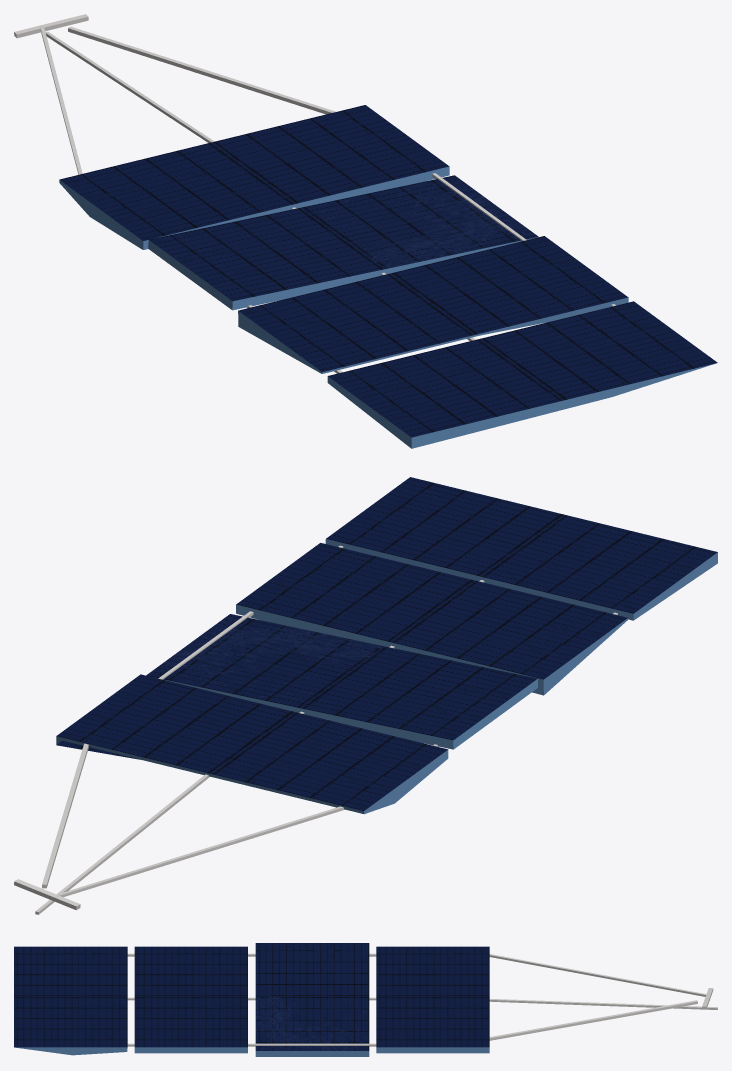
The model's file is Broken_Sattelite_Small_Trash.fbx.
3 renders of one model, top to bottom at view 1: azimuth 30°, elevation 25°; view 2: azimuth 150°, elevation 25°; view 3: azimuth 270°, elevation 25°, orthographic. The views are drawn at different scales.
Parts seen in each view (by area): view 1: pCube4, pCube12, pCube3, pCube8, pCube18, pCube16, pCube17; view 2: pCube3, pCube4, pCube12, pCube8, pCube17, pCube16, pCube18; view 3: pCube8, pCube12, pCube3, pCube4, pCube18, pCube17, pCube16, pCube15.
Boxes of the visible parts, <box> form: pCube4: <box>327,301,717,448</box>; pCube12: <box>59,105,449,249</box>; pCube3: <box>238,236,628,373</box>; pCube8: <box>148,175,538,310</box>; pCube18: <box>68,26,336,114</box>; pCube16: <box>45,31,214,142</box>; pCube17: <box>40,26,82,174</box>; pCube3: <box>236,543,627,695</box>; pCube4: <box>325,477,717,620</box>; pCube12: <box>56,674,448,814</box>; pCube8: <box>146,614,537,749</box>; pCube17: <box>55,806,344,897</box>; pCube16: <box>35,774,209,914</box>; pCube18: <box>42,743,88,888</box>; pCube8: <box>255,943,369,1056</box>; pCube12: <box>376,946,489,1053</box>; pCube3: <box>134,946,247,1053</box>; pCube4: <box>14,946,127,1055</box>; pCube18: <box>489,1000,697,1040</box>; pCube17: <box>489,954,709,996</box>; pCube16: <box>489,998,717,1009</box>; pCube15: <box>127,1043,376,1046</box>.
Size of the model in its own units: 2.21 by 0.1532 by 6.5.
